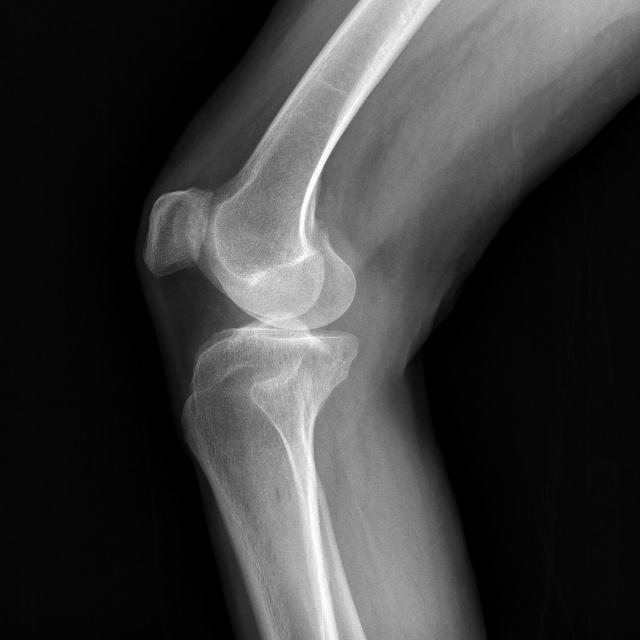Knee: (140, 186, 361, 416)
